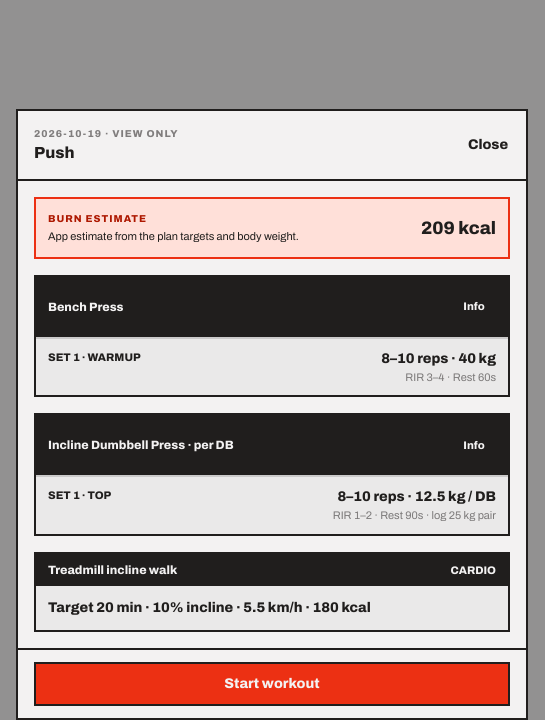
PlanLogSheet view only › starts from view only with one tap
The image size is (545, 720).
Click the button "Start workout" at (272, 684), box [34,662,510,706]
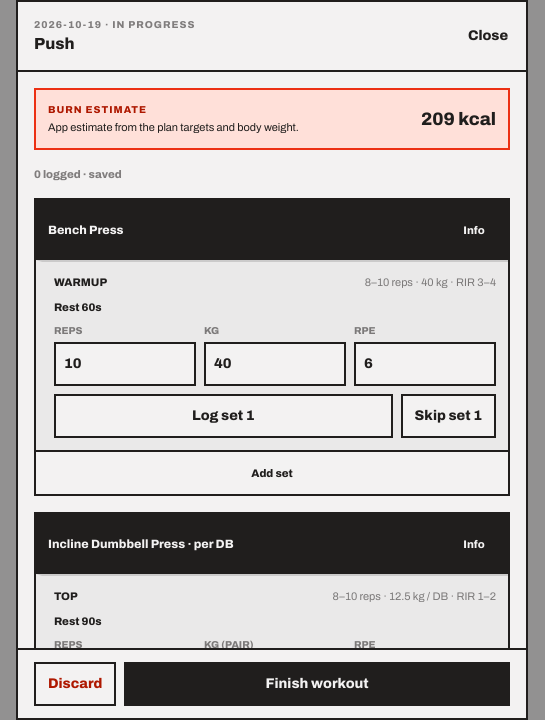
expect the text "2026-10-19 · in progress" is shown: met, box [34,16,195,32]
expect the number of buttons "Log set 1" is 2: met
expect the button "Start workout" is gone: met
